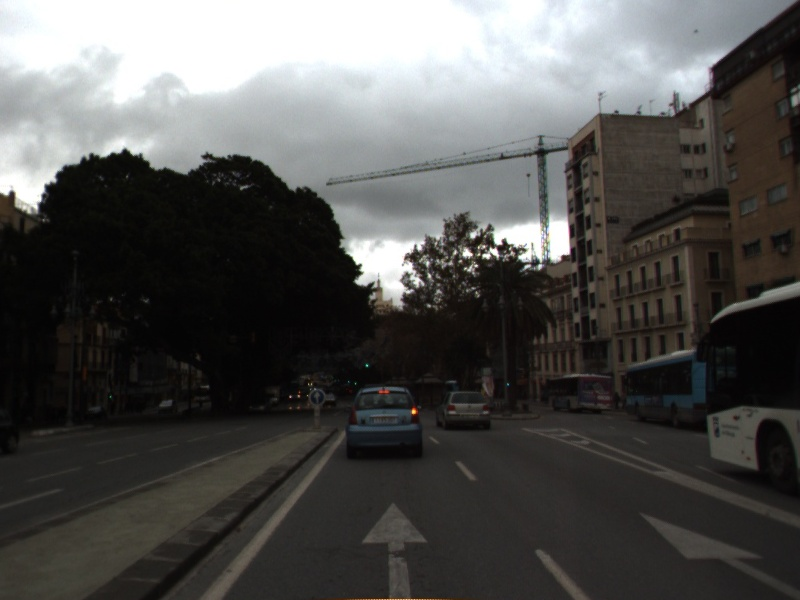STRAIGHT: (635, 509, 800, 600), (358, 498, 430, 600)
